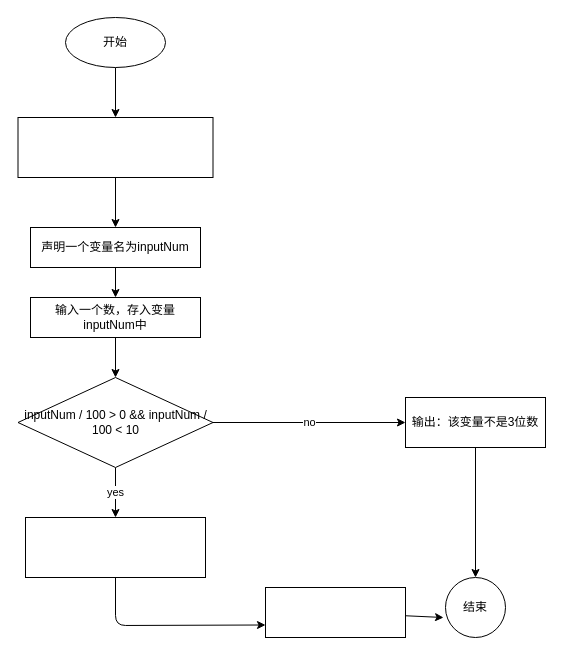
Some shapes in this 563 by 655 pixel diagram are drawn without their labels. Each missing label, with the centre of its shape:
"single = inputNum % 10; tens = inputNum / 10 % 10; hundreds = inputNum / 100;" belongs at point (115, 547).
"声明3个变量为single,tens,hundreds, 分别记录个位数、十位数、百位数" belongs at point (115, 147).
"输出三位数结果" belongs at point (335, 612).
